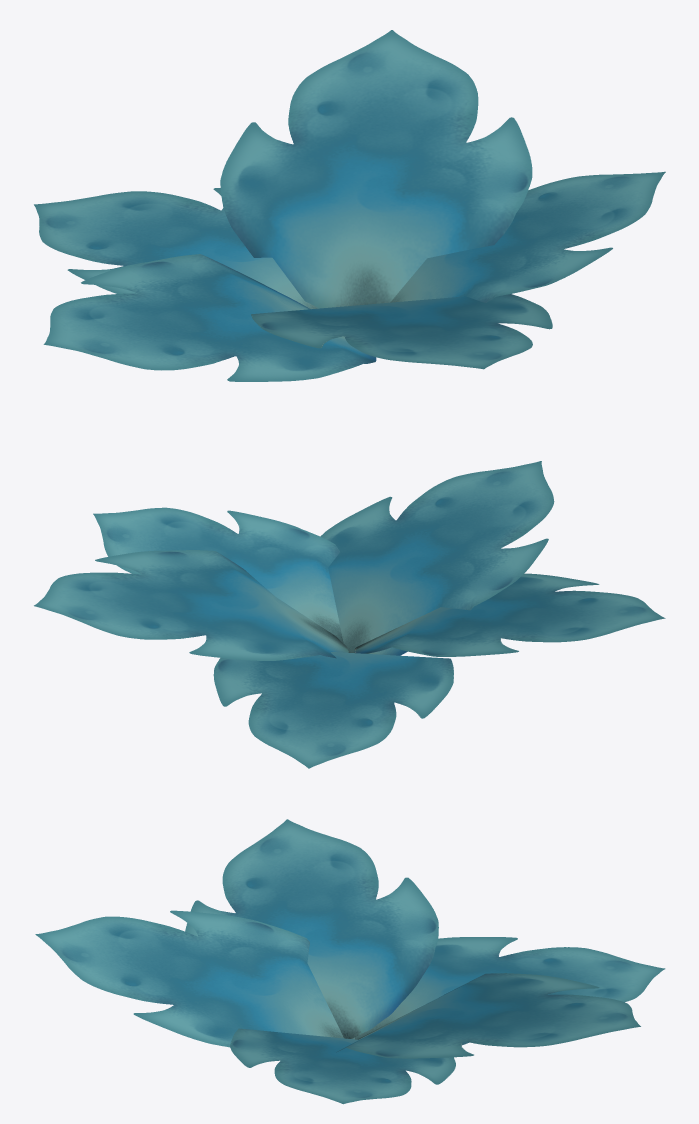
File: Flora_Crown.fbx
3 renders of one model, top to bottom at view 1: azimuth 30°, elevation 25°; view 2: azimuth 150°, elevation 25°; view 3: azimuth 270°, elevation 25°, orthographic. The views are drawn at different scales.
Parts seen in each view (by area): view 1: Tx_Flora_Petal_Crown.003; view 2: Tx_Flora_Petal_Crown.003; view 3: Tx_Flora_Petal_Crown.003.
Part boxes in pixels (x1,y1,x2,y2): Tx_Flora_Petal_Crown.003: (34,30,665,381); Tx_Flora_Petal_Crown.003: (34,461,665,768); Tx_Flora_Petal_Crown.003: (35,819,665,1104).
Size of the model in its own units: 93.66 by 19.2 by 90.59.
